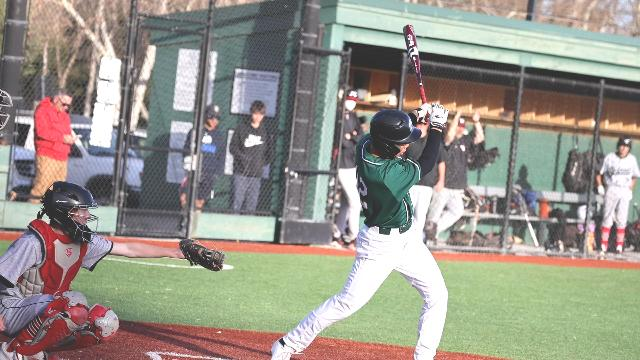bat: (404, 25, 428, 105)
